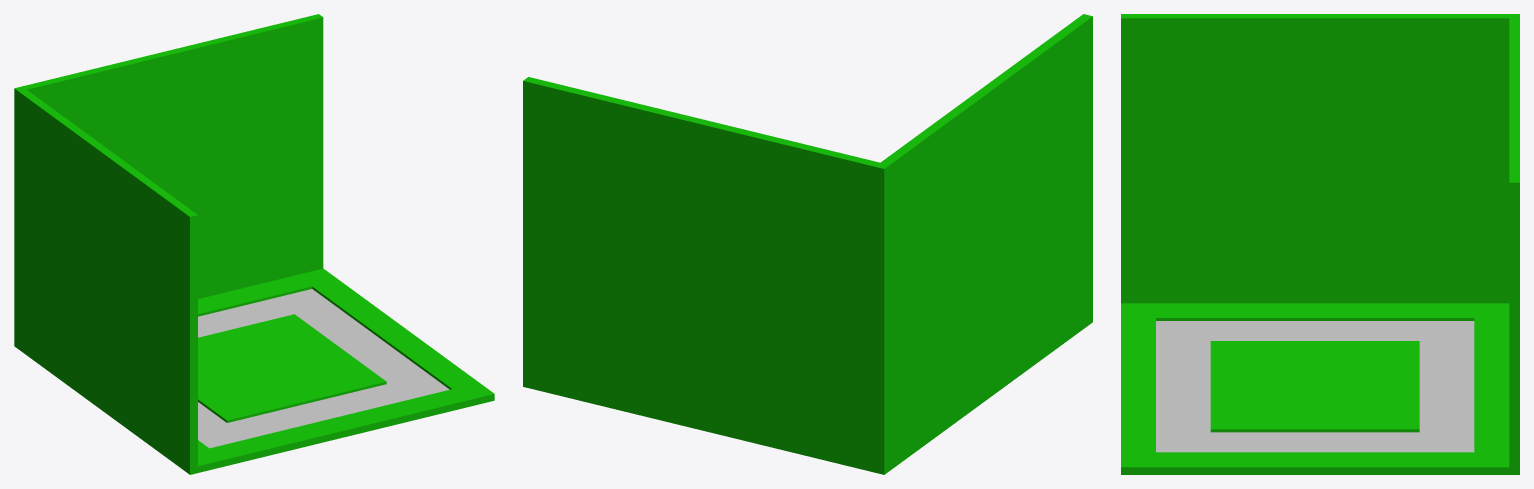
The model's file is Room.fbx.
3 views of the same model, side by side, from view 1: azimuth 30°, elevation 25°; view 2: azimuth 150°, elevation 25°; view 3: azimuth 270°, elevation 25° (orthographic). The views are drawn at different scales.
Visible parts, largest first — view 1: Room; view 2: Room; view 3: Room.
Part boxes in pixels (left/top/right/bottom): Room: left=14, top=14, right=494, bottom=474; Room: left=523, top=14, right=1092, bottom=474; Room: left=1121, top=14, right=1519, bottom=474.
Size of the model in its own units: 441 by 357 by 441.
